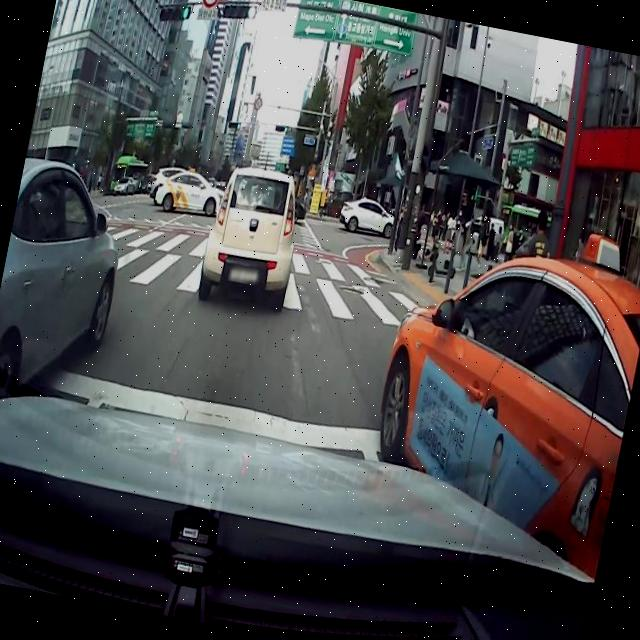crosswalk: (7, 221, 463, 331)
